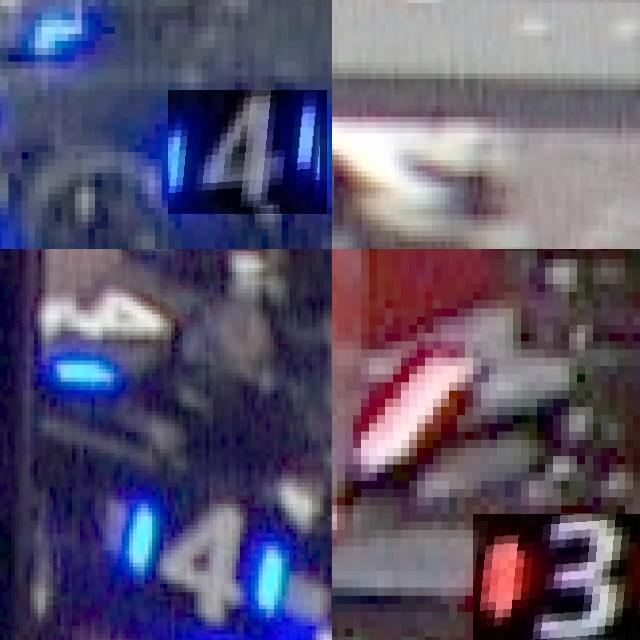B4: (116, 478, 280, 634), (168, 90, 328, 214), (44, 249, 169, 384)
R3: (473, 513, 640, 640)
